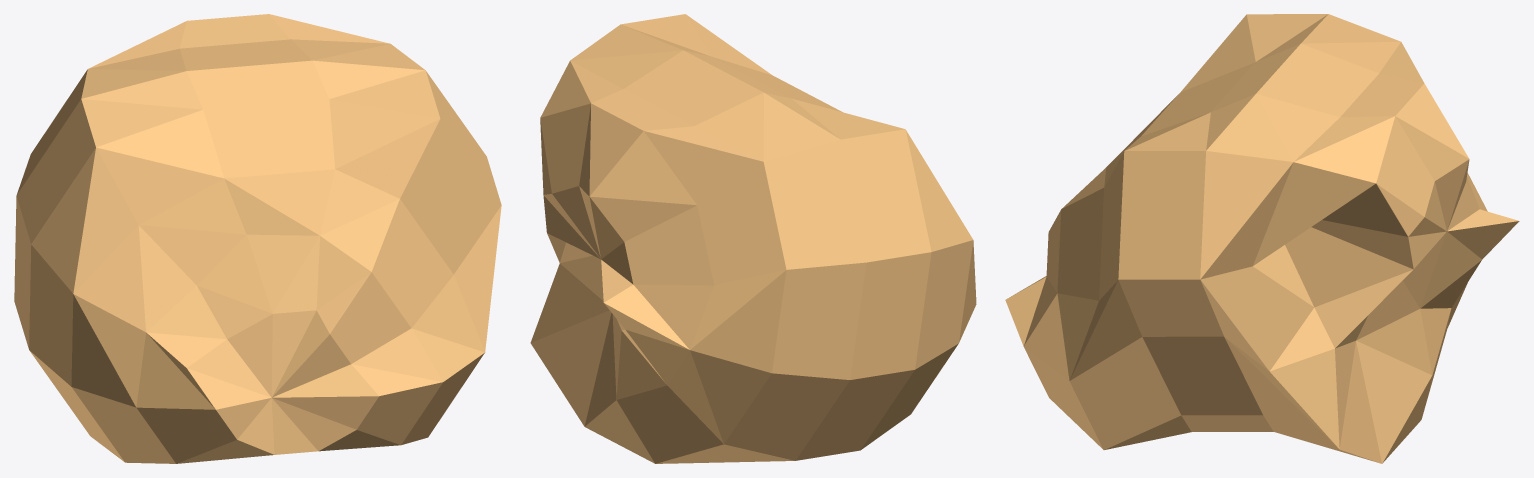
The picture shows the model from 3 angles, left to right: view 1: azimuth 30°, elevation 25°; view 2: azimuth 150°, elevation 25°; view 3: azimuth 270°, elevation 25°; orthographic projection. The views are drawn at different scales.
Visible parts, largest first — view 1: mesh_536976416; view 2: mesh_536976416; view 3: mesh_536976416.
Boxes of the visible parts, x1,y1,x2,y2 form: mesh_536976416: (14, 14, 501, 463); mesh_536976416: (530, 14, 976, 463); mesh_536976416: (1005, 14, 1519, 463).
Size of the model in its own units: 12.57 by 10.09 by 13.35.
